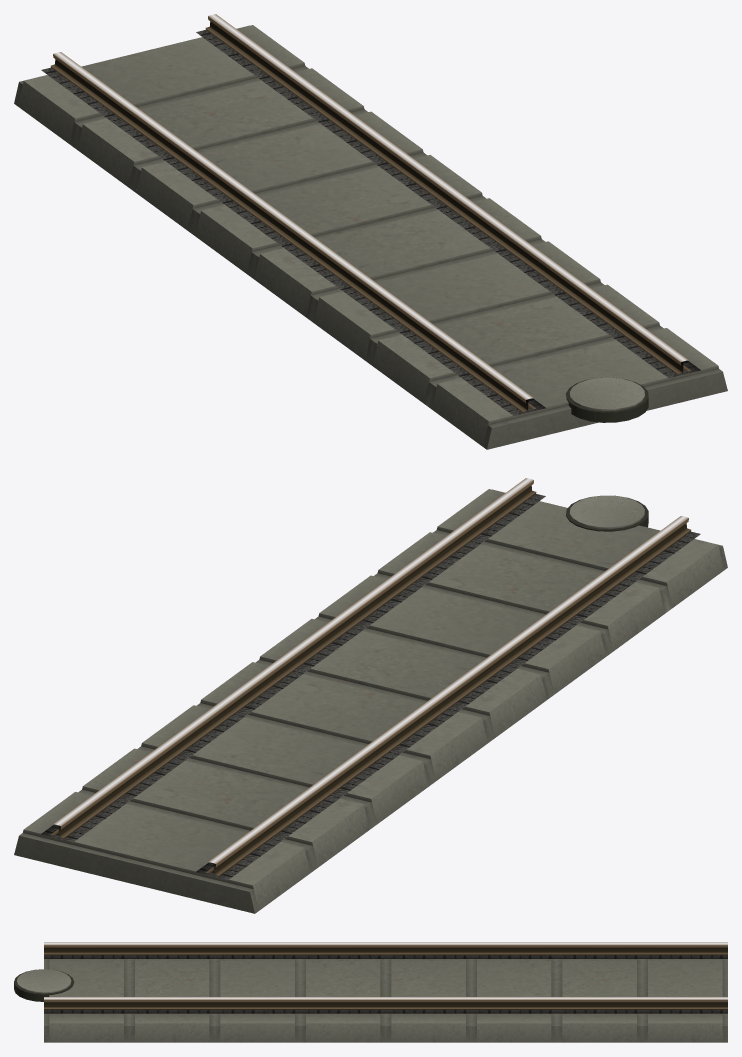
Rendered from HT_1RAIL25_KONKURI.glb.
3 views of the same model, one above another, from view 1: azimuth 30°, elevation 25°; view 2: azimuth 150°, elevation 25°; view 3: azimuth 270°, elevation 25° (orthographic). The views are drawn at different scales.
Parts seen in each view (by area): view 1: obj6, obj1; view 2: obj6, obj1; view 3: obj6, obj1.
Boxes of the visible parts, x1,y1,x2,y2 form: obj6: (14, 14, 727, 449); obj1: (566, 377, 648, 422); obj6: (14, 478, 727, 913); obj1: (566, 495, 648, 531); obj6: (44, 942, 727, 1042); obj1: (14, 969, 74, 1001).
Bounding box in the file's own units: 7.36 × 1.19 × 26.1.
5 materials, 4 textured.
